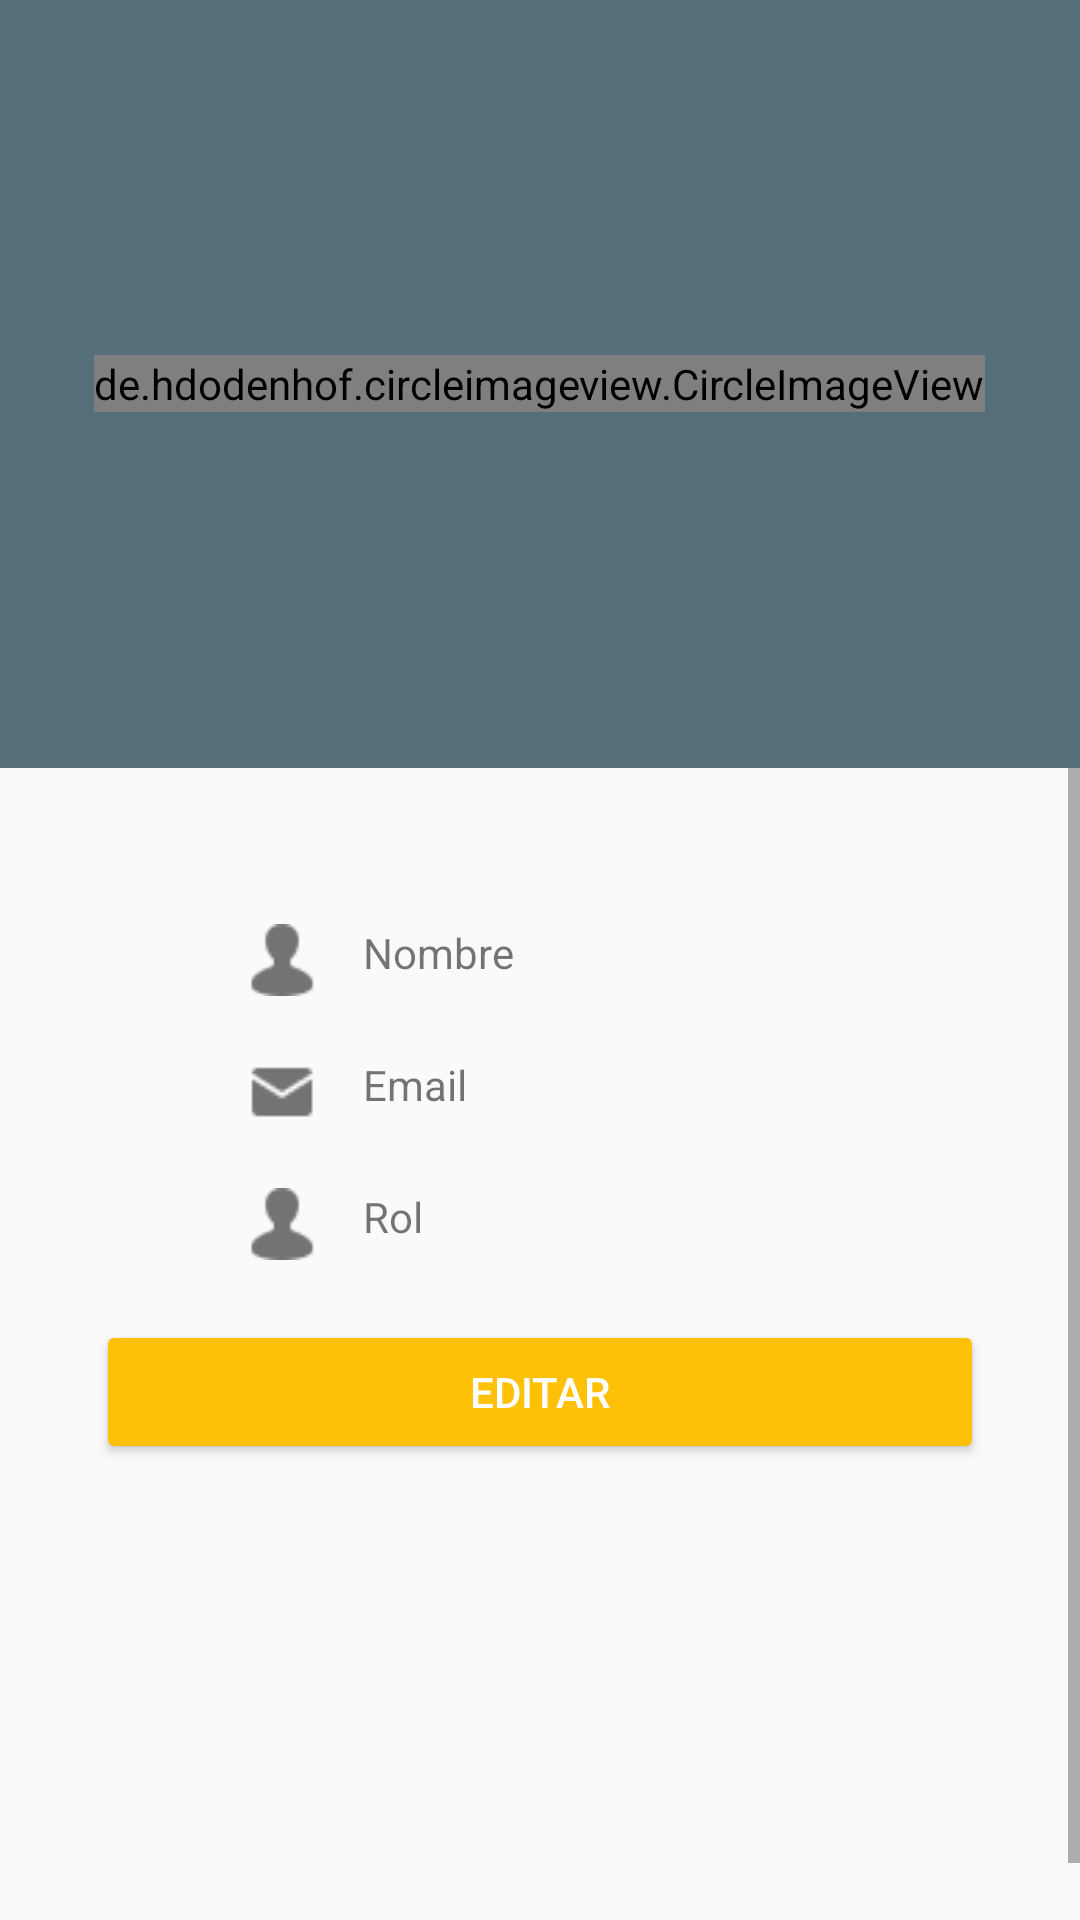

Icon bounding boxes for this 1080w x 1920h phone screenshot, format (x1, y1, x2, y2):
profile: (251, 924, 314, 996), (251, 1188, 314, 1260)
